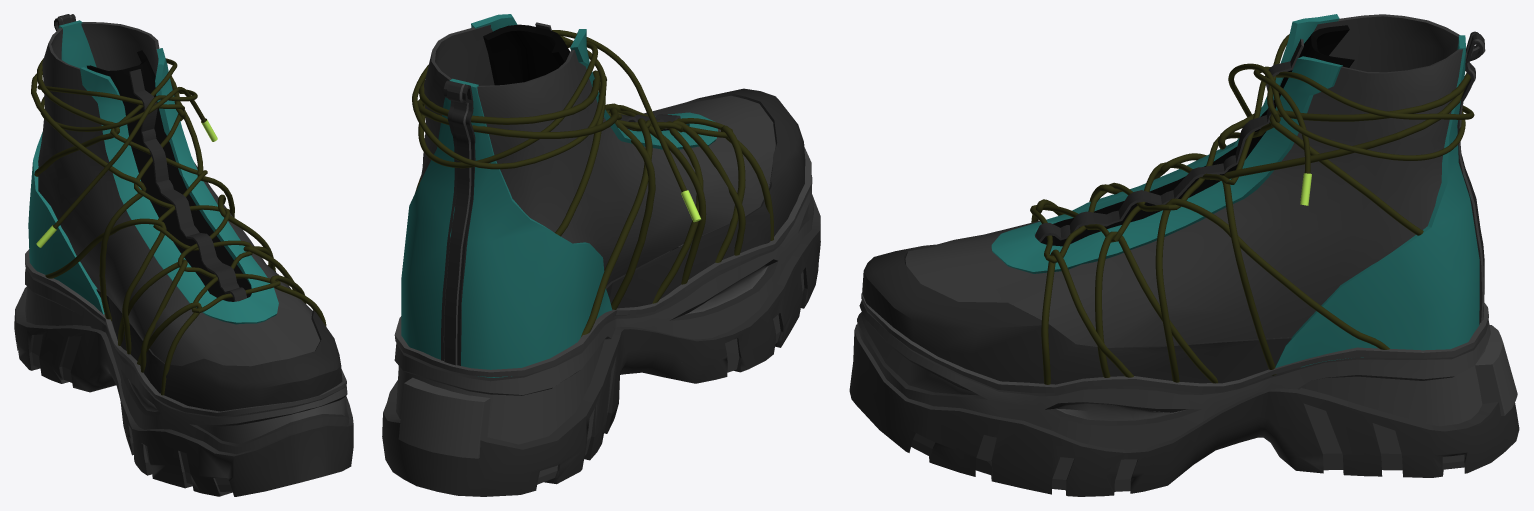
Rendered from 02_TyubuSangaku.glb.
The picture shows the model from 3 angles, left to right: view 1: azimuth 30°, elevation 25°; view 2: azimuth 150°, elevation 25°; view 3: azimuth 270°, elevation 25°; orthographic projection. The views are drawn at different scales.
Visible parts, largest first — view 1: Куб.012, Куб.016, Куб.002, Куб.013, Куб.011, Цилиндр.004, Куб.014, Куб.003, Куб.015, Цилиндр.005, Цилиндр.001, Цилиндр.002 (+2 smaller); view 2: Куб.012, Куб.003, Куб.016, Куб.002, Куб.011, Цилиндр.004, Куб.001, Куб.017, Куб.014, Цилиндр.005, Цилиндр.001, Цилиндр.012 (+3 smaller); view 3: Куб.012, Куб.016, Куб.002, Куб.011, Куб.003, Куб.013, Цилиндр.004, Цилиндр.001, Цилиндр.005, Куб.015, Куб.014, Цилиндр.012 (+4 smaller).
Boxes of the visible parts, box(x1,y1,x2,y2) form: Куб.012: box(38, 22, 320, 366); Куб.016: box(14, 286, 353, 496); Куб.002: box(25, 249, 349, 454); Куб.013: box(80, 48, 278, 324); Куб.011: box(96, 289, 342, 411); Цилиндр.004: box(36, 58, 280, 313); Куб.014: box(87, 50, 251, 301); Куб.003: box(28, 20, 104, 314); Куб.015: box(129, 69, 246, 301); Цилиндр.005: box(31, 71, 234, 320); Цилиндр.001: box(45, 194, 275, 354); Цилиндр.002: box(118, 246, 295, 372); Куб.012: box(420, 24, 775, 285); Куб.003: box(401, 78, 612, 377); Куб.016: box(382, 179, 820, 496); Куб.002: box(394, 123, 814, 444); Куб.011: box(606, 88, 805, 308); Цилиндр.004: box(412, 30, 732, 222); Куб.001: box(441, 80, 475, 365); Куб.017: box(398, 377, 490, 458); Куб.014: box(483, 24, 684, 132); Цилиндр.005: box(417, 99, 655, 309); Цилиндр.001: box(580, 118, 706, 337); Цилиндр.012: box(415, 70, 605, 236); Куб.012: box(905, 14, 1462, 347); Куб.016: box(849, 324, 1519, 496); Куб.002: box(857, 292, 1490, 449); Куб.011: box(862, 244, 1291, 384); Куб.003: box(1275, 35, 1479, 367); Куб.013: box(991, 14, 1342, 273); Цилиндр.004: box(1030, 34, 1474, 263); Цилиндр.001: box(1154, 153, 1389, 382); Цилиндр.005: box(1218, 89, 1464, 375); Куб.015: box(1035, 39, 1303, 242); Куб.014: box(1041, 25, 1354, 246); Цилиндр.012: box(1265, 70, 1470, 235).
Size of the model in its own units: 1.24 by 1.8 by 2.71.
